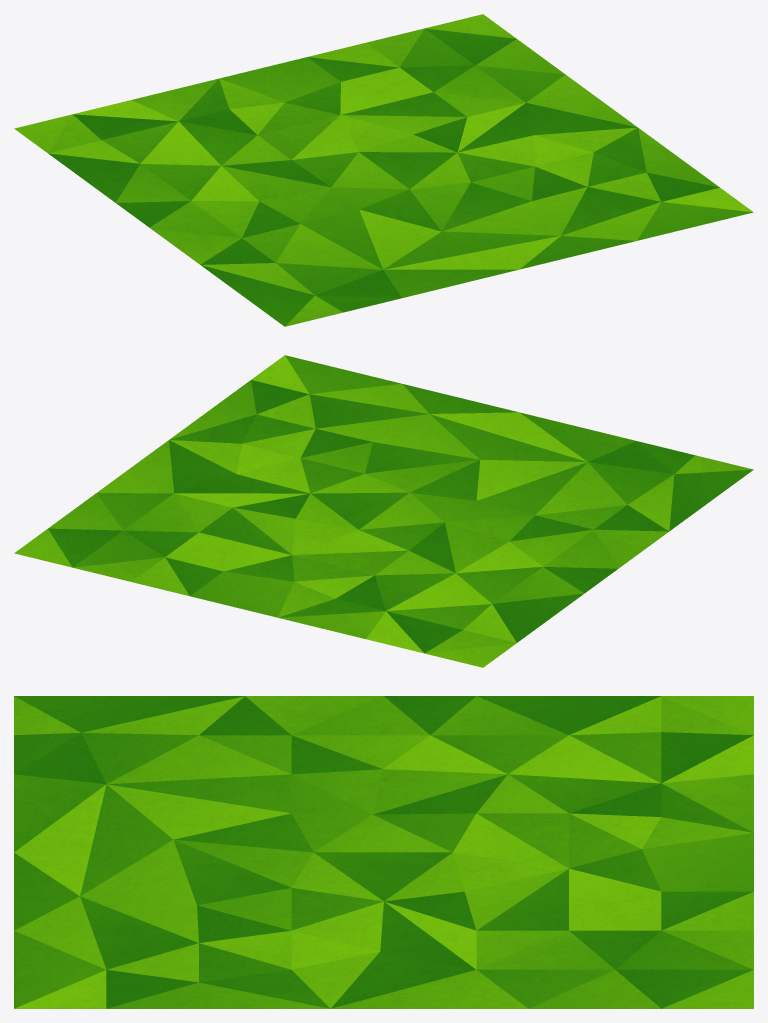
Rendered from Terrain-part-15.fbx.
3 views of the same model, one above another, from view 1: azimuth 30°, elevation 25°; view 2: azimuth 150°, elevation 25°; view 3: azimuth 270°, elevation 25° (orthographic). The views are drawn at different scales.
Visible parts, largest first — view 1: Terrain-part-15; view 2: Terrain-part-15; view 3: Terrain-part-15.
Part boxes in pixels (box(x1,y1,x2,y2)): Terrain-part-15: box(14, 14, 753, 326); Terrain-part-15: box(14, 355, 753, 667); Terrain-part-15: box(14, 696, 753, 1008).
Size of the model in its own units: 6 by 0 by 6.
